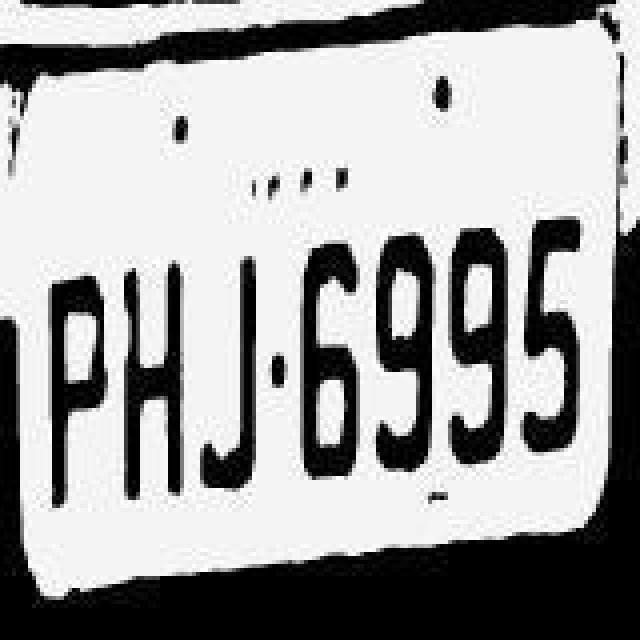5: (520, 212, 592, 476)
6: (292, 228, 364, 492)
9: (372, 228, 444, 492), (444, 220, 516, 476)
H: (114, 254, 190, 514)
J: (196, 236, 276, 492)
P: (44, 252, 116, 516)
